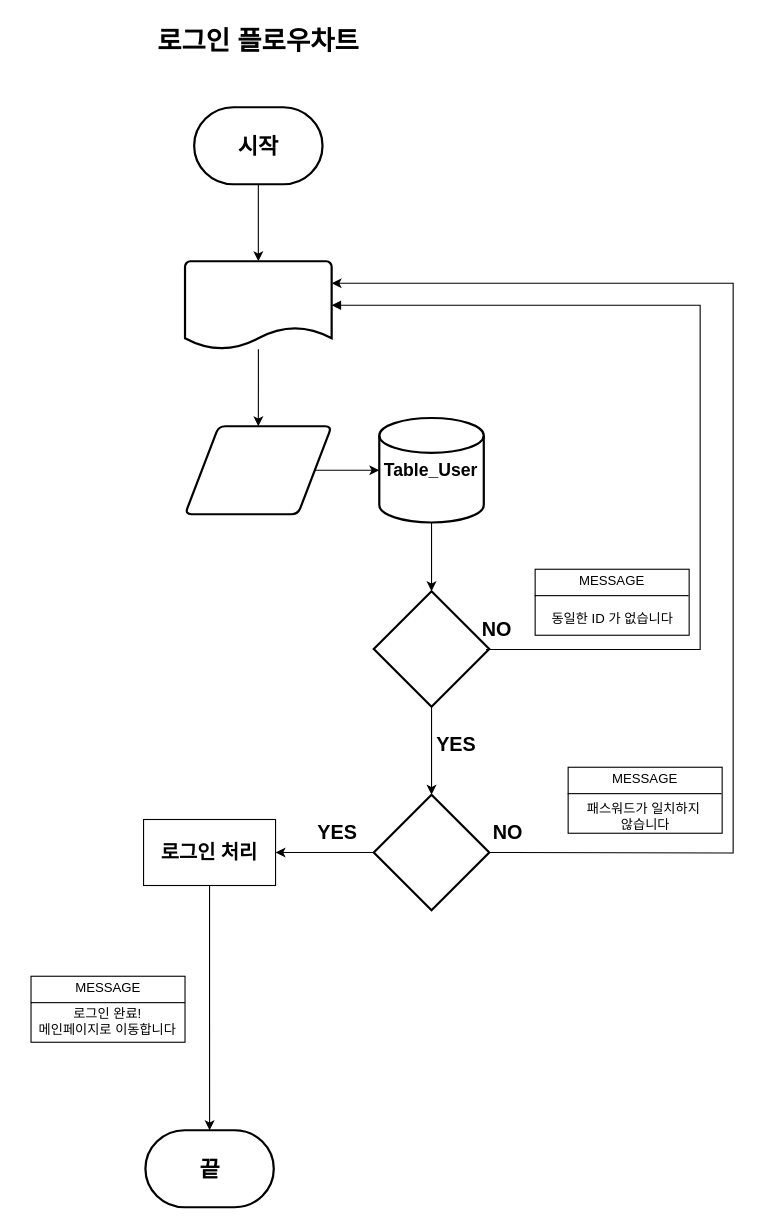
Some shapes in this 761 by 1227 pixel diagram are drawn without their labels. Each missing label, with the centre of its shape:
ID/PW 입력: [257,470]
PW 일치 하는지?: [431,852]
동일 ID 가 있는지?: [431,648]
로그인 페이지: [257,305]
